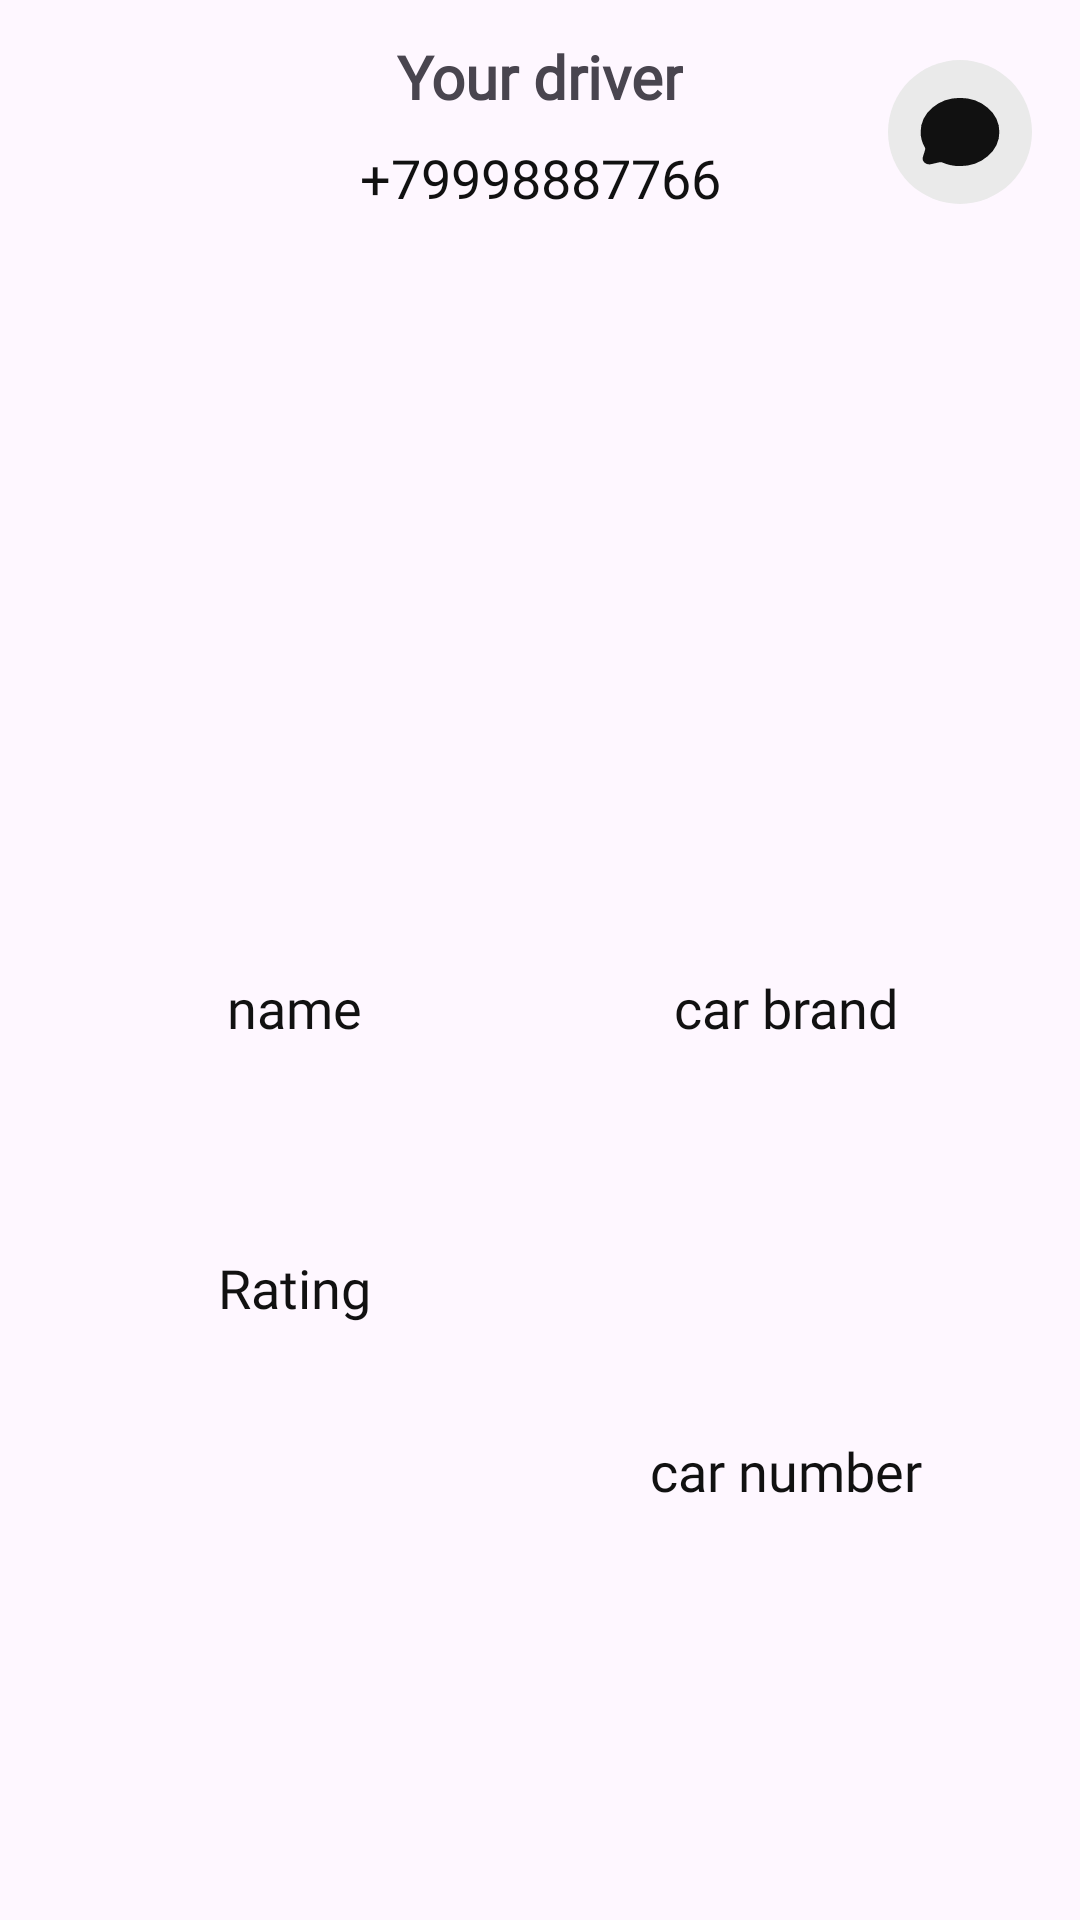

Screen size 1080 x 1920. Icon name, then its center in pixels as (x=x, y=y):
chat round: (x=960, y=132)
